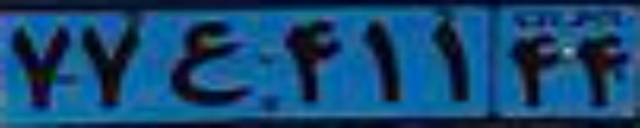1: (424, 17, 471, 102), (361, 19, 404, 102)
4: (281, 18, 350, 102), (575, 33, 629, 106), (508, 34, 559, 108)
7: (80, 23, 148, 109), (8, 23, 70, 109)
ain: (168, 19, 249, 105)
